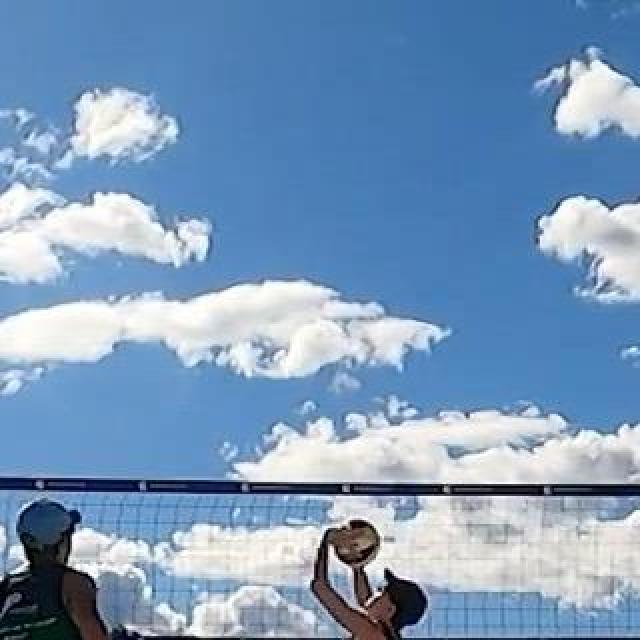volleyball: (333, 517, 379, 565)
